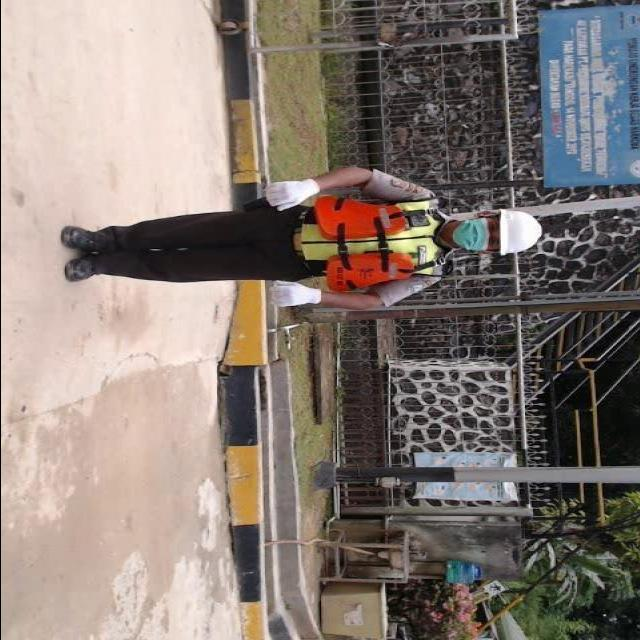helmet: (496, 202, 548, 260)
jacket: (300, 190, 444, 308)
